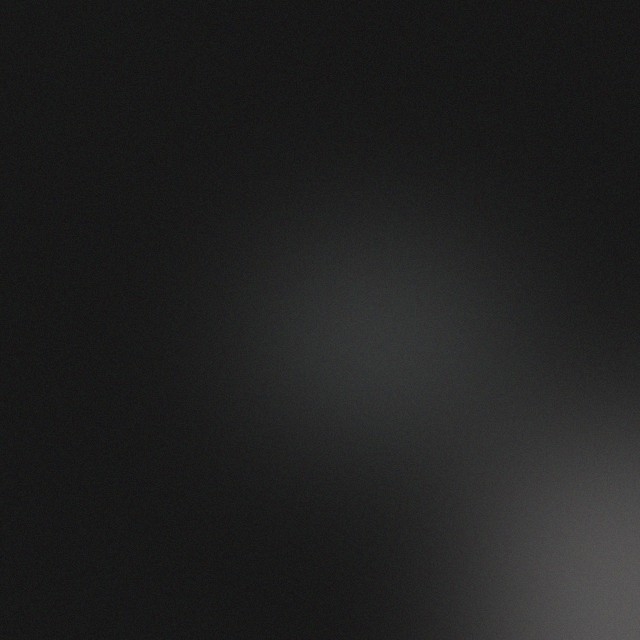smoke: (262, 226, 584, 548)
